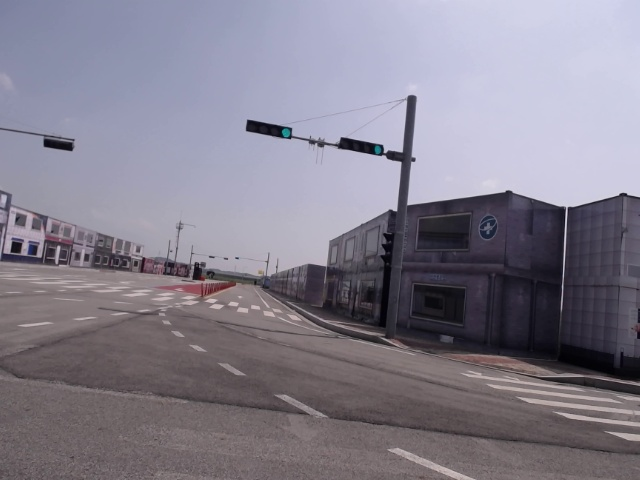straight_green_4: (246, 119, 293, 140), (340, 137, 386, 157)
